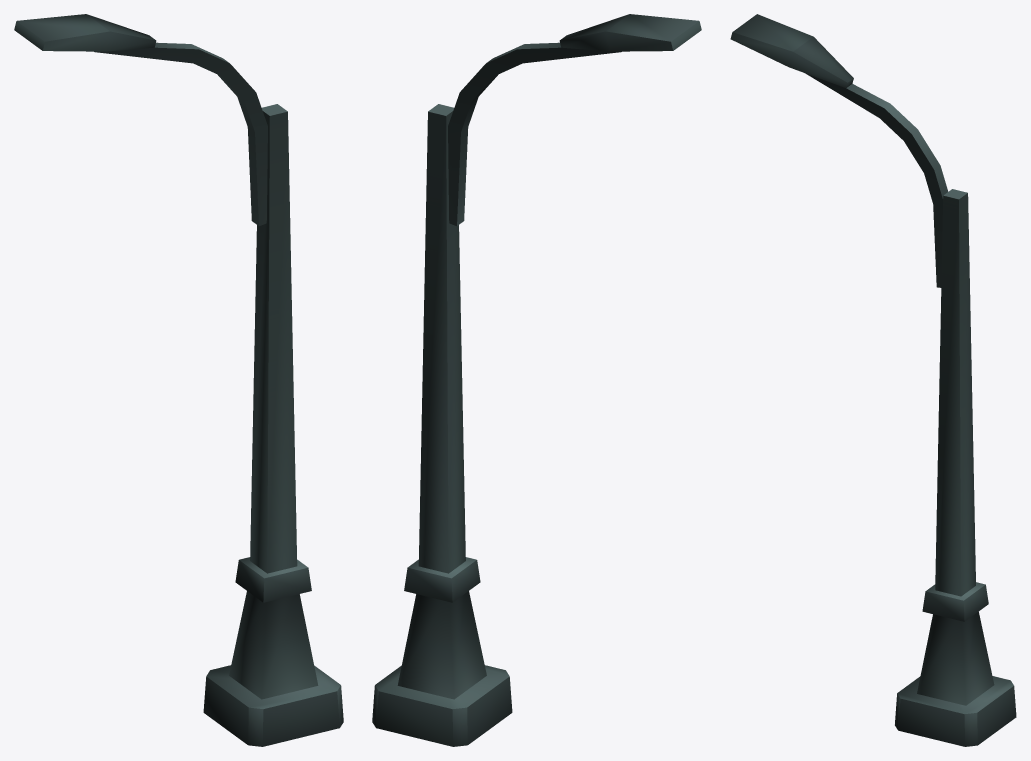
File: Streetlight_1C.fbx
3 views of the same model, side by side, from view 1: azimuth 30°, elevation 25°; view 2: azimuth 150°, elevation 25°; view 3: azimuth 330°, elevation 25° (orthographic). The views are drawn at different scales.
Parts seen in each view (by area): view 1: Streetlight_1C; view 2: Streetlight_1C; view 3: Streetlight_1C.
Boxes of the visible parts, box(x1,y1,x2,y2) form: Streetlight_1C: box(14, 14, 343, 746); Streetlight_1C: box(372, 14, 701, 746); Streetlight_1C: box(730, 14, 1016, 746).
Bounding box in the file's own units: 334 × 811 × 109.
